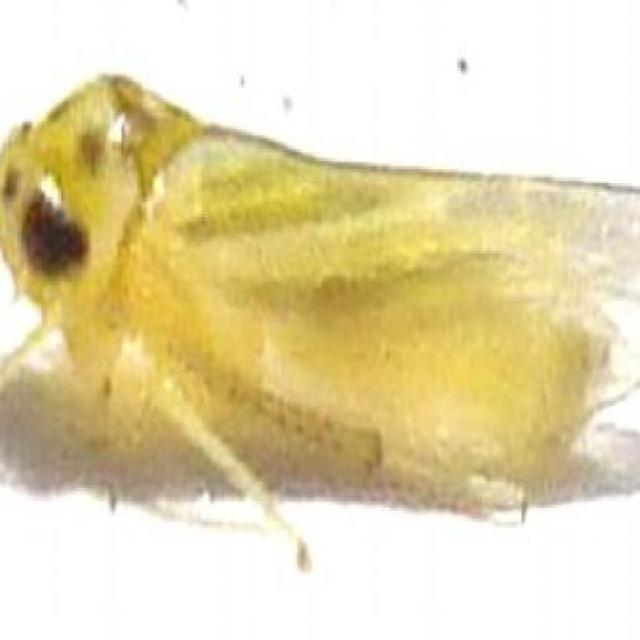green-leafhopper: (3, 84, 640, 491)
